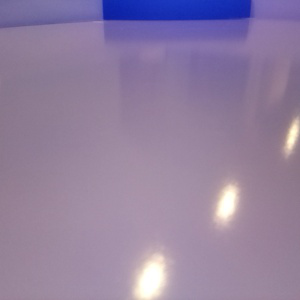zone: (103, 1, 251, 20)
